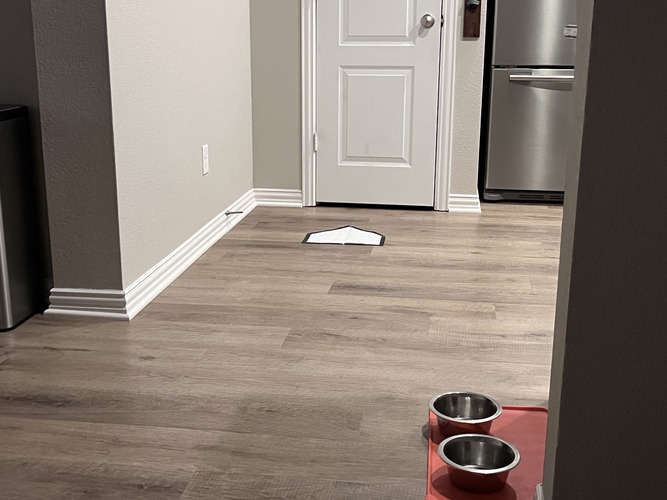homeplate: (302, 225, 384, 247)
